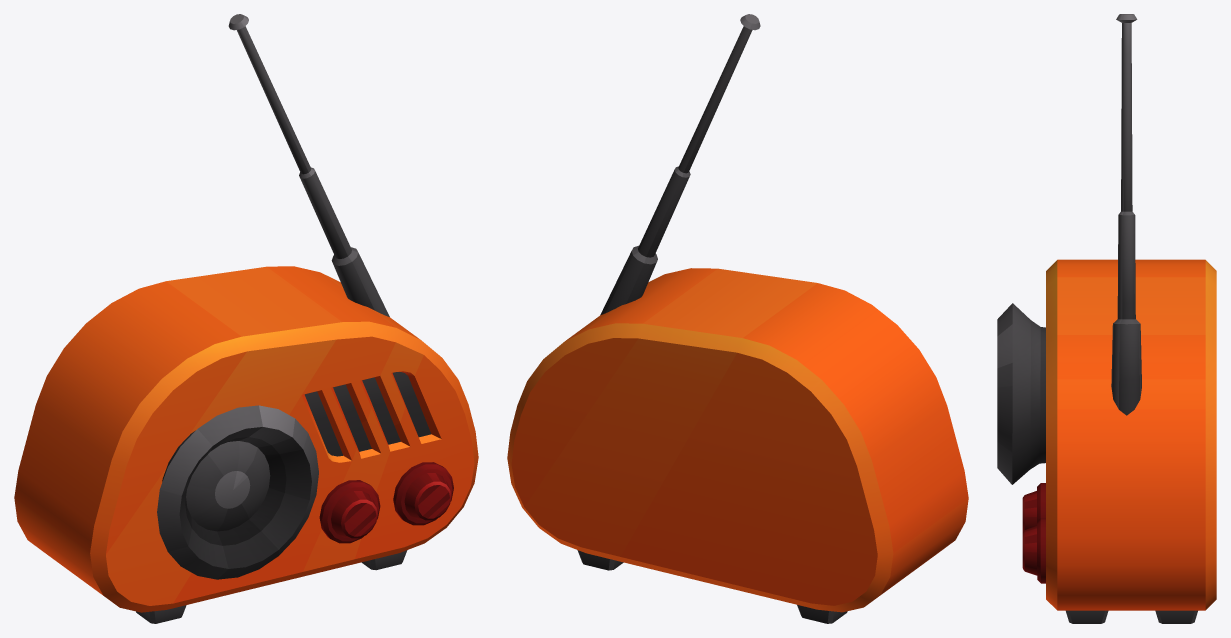
Rendered from radio.fbx.
3 renders of one model, left to right at view 1: azimuth 30°, elevation 25°; view 2: azimuth 150°, elevation 25°; view 3: azimuth 270°, elevation 25°, orthographic. The views are drawn at different scales.
Visible parts, largest first — view 1: radio; view 2: radio; view 3: radio.
Part boxes in pixels (x1,y1,x2,y2): radio: [14, 14, 478, 623]; radio: [507, 14, 968, 623]; radio: [997, 14, 1216, 623].
Bounding box in the file's own units: 51.37 × 70.63 × 25.71.
